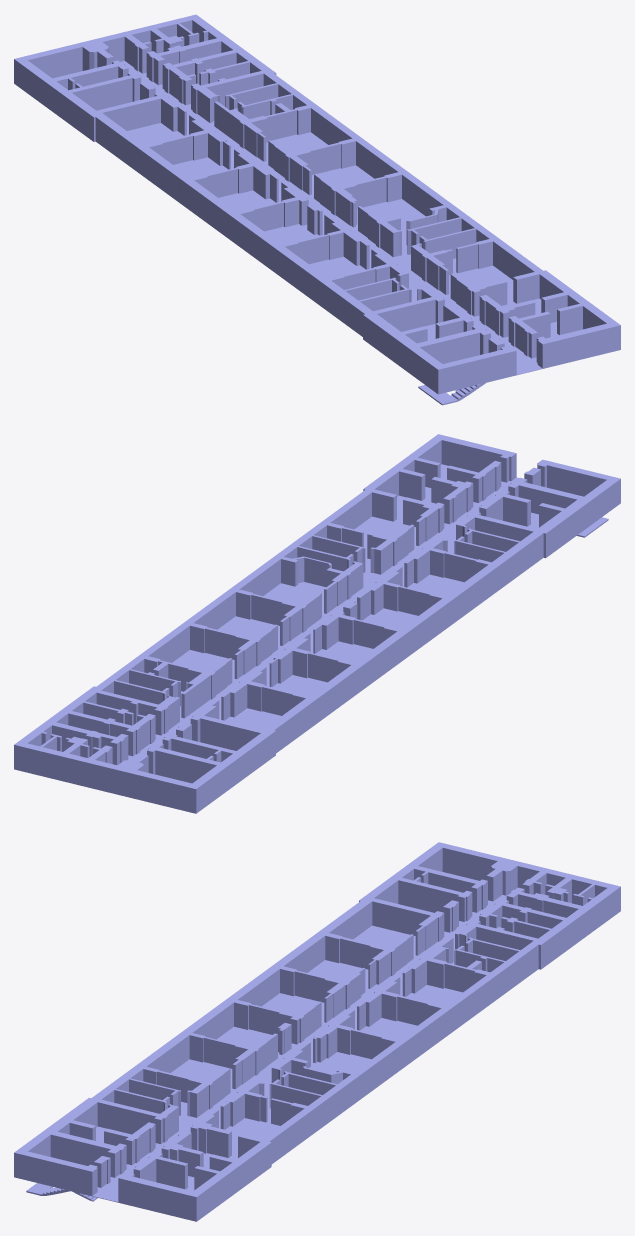
The model's file is 3CampusCasing4F.glb.
3 renders of one model, top to bottom at view 1: azimuth 30°, elevation 25°; view 2: azimuth 150°, elevation 25°; view 3: azimuth 330°, elevation 25°, orthographic.
Visible parts, largest first — view 1: Floor_4.004; view 2: Floor_4.004; view 3: Floor_4.004.
Part boxes in pixels (<box>): Floor_4.004: <box>14,14,620,405</box>; Floor_4.004: <box>14,434,620,813</box>; Floor_4.004: <box>14,842,620,1221</box>.
Size of the model in its own units: 0.6761 by 0.1762 by 2.72.
